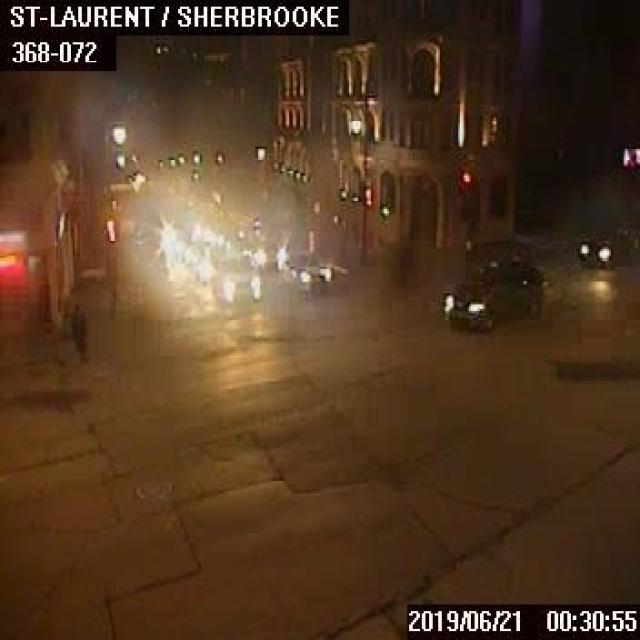pedestrian: (71, 302, 85, 360)
vehicle: (442, 258, 547, 326), (578, 222, 638, 267), (214, 258, 262, 304), (280, 249, 329, 287)
